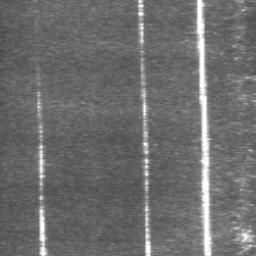Bright scratch: (197, 0, 211, 256), (138, 0, 151, 256), (37, 74, 47, 256)
